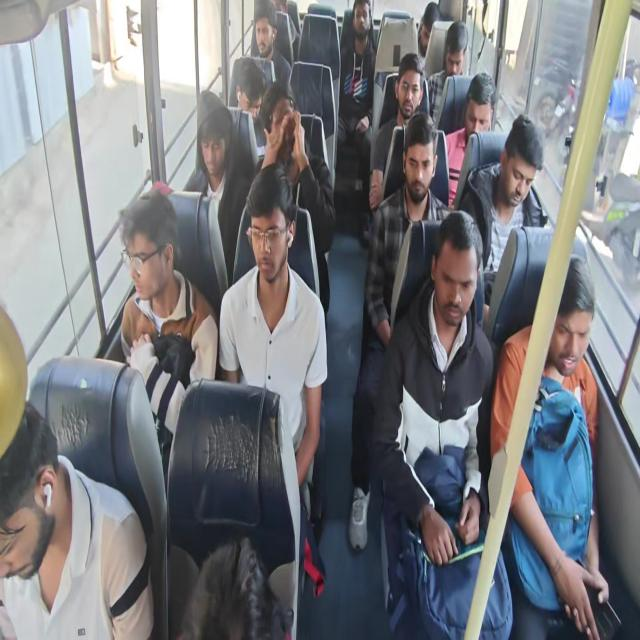person: (0, 403, 63, 605), (180, 564, 279, 640), (540, 290, 598, 384), (120, 210, 174, 296), (437, 224, 482, 326), (248, 183, 286, 268), (399, 120, 436, 203), (501, 126, 538, 208), (198, 88, 226, 173), (269, 101, 300, 162), (441, 18, 468, 86), (464, 73, 490, 143), (396, 59, 426, 118), (415, 0, 445, 54), (237, 64, 260, 115), (253, 10, 274, 57), (351, 0, 372, 43)
